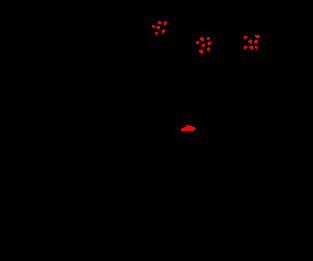Target: (181, 125, 196, 131), (200, 37, 204, 41), (248, 39, 252, 43), (249, 45, 253, 49), (199, 49, 203, 53), (255, 35, 260, 38), (164, 21, 167, 25), (156, 26, 160, 29), (162, 29, 165, 33), (254, 40, 258, 43), (207, 42, 211, 45), (207, 47, 210, 51), (158, 21, 161, 24), (152, 25, 155, 28), (155, 32, 158, 35), (244, 36, 247, 39), (207, 37, 210, 40), (196, 41, 199, 44), (202, 44, 205, 47), (244, 46, 247, 49), (255, 46, 258, 49)
